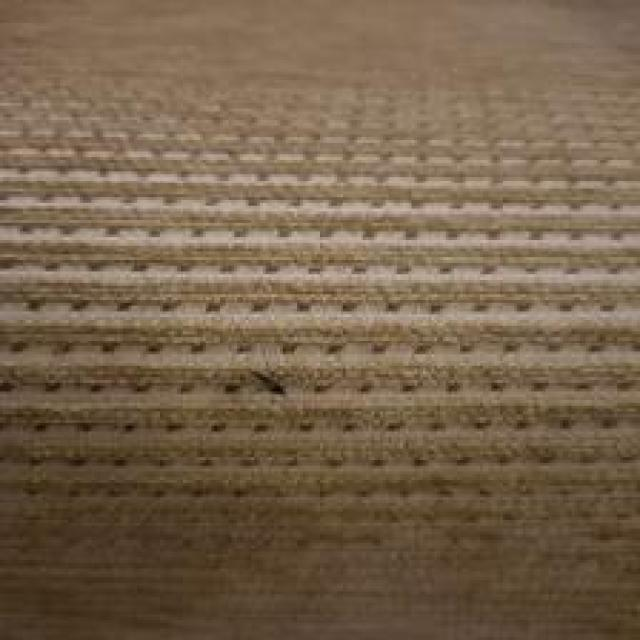Aedes albopictus: (250, 367, 287, 396)
